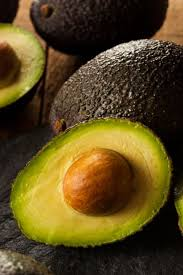aguacate: (7, 123, 169, 244), (31, 31, 183, 137)
